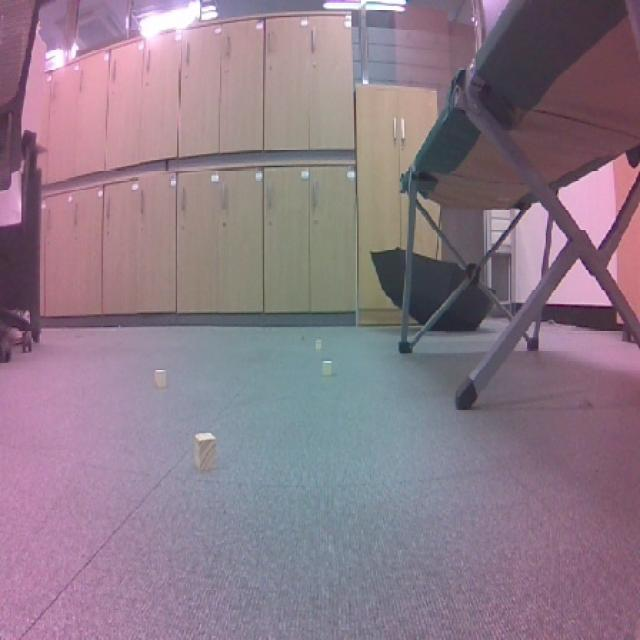obstacle: (186, 427, 224, 481), (147, 359, 174, 398)
